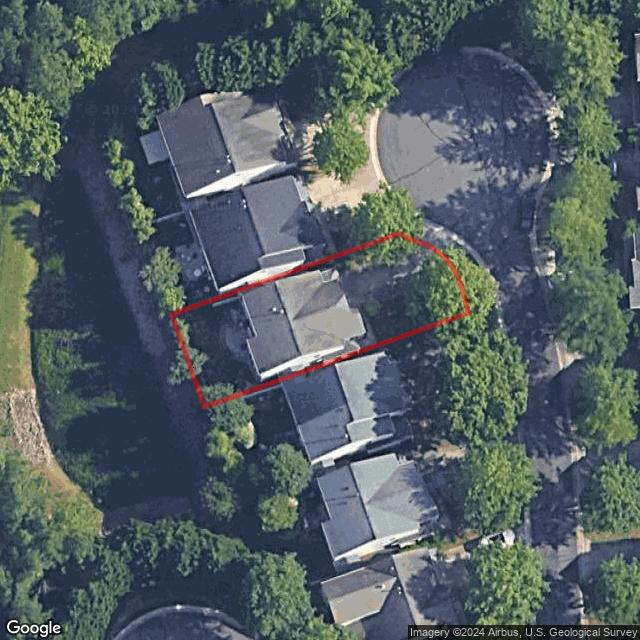Driveway: (338, 239, 445, 309)
Extra-Driveway: (419, 222, 459, 259)
Extra-Lawn: (444, 244, 493, 315), (399, 217, 429, 241)
House: (241, 268, 368, 381)
Lawn: (173, 232, 469, 409)
Other: (220, 307, 255, 359)
Sidewalk: (356, 304, 379, 351)
